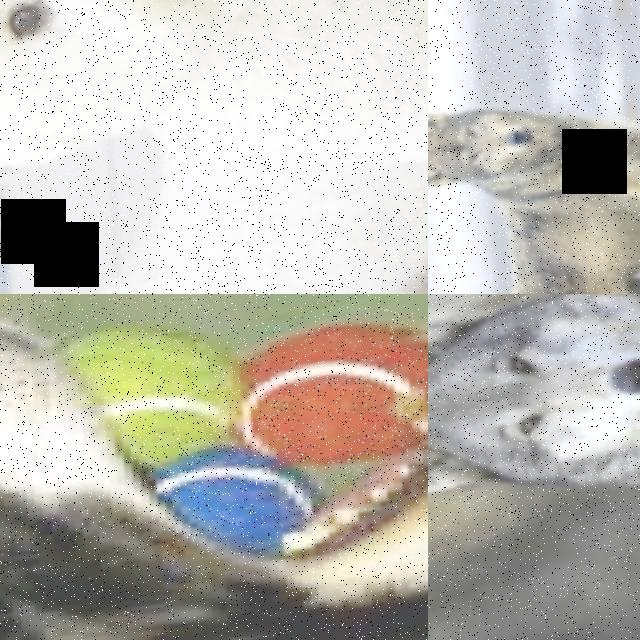dog: (0, 294, 428, 640), (0, 0, 428, 294)
wolf: (428, 294, 640, 640), (428, 49, 640, 294), (428, 294, 640, 504)
